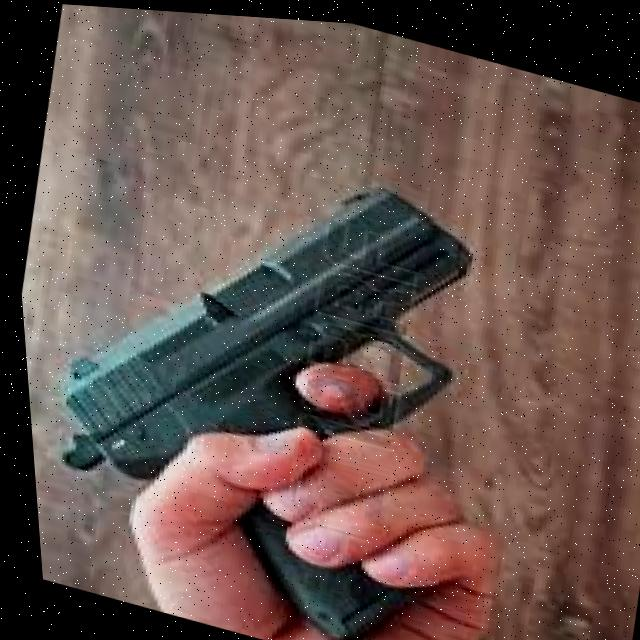pistol: (17, 99, 496, 567)
